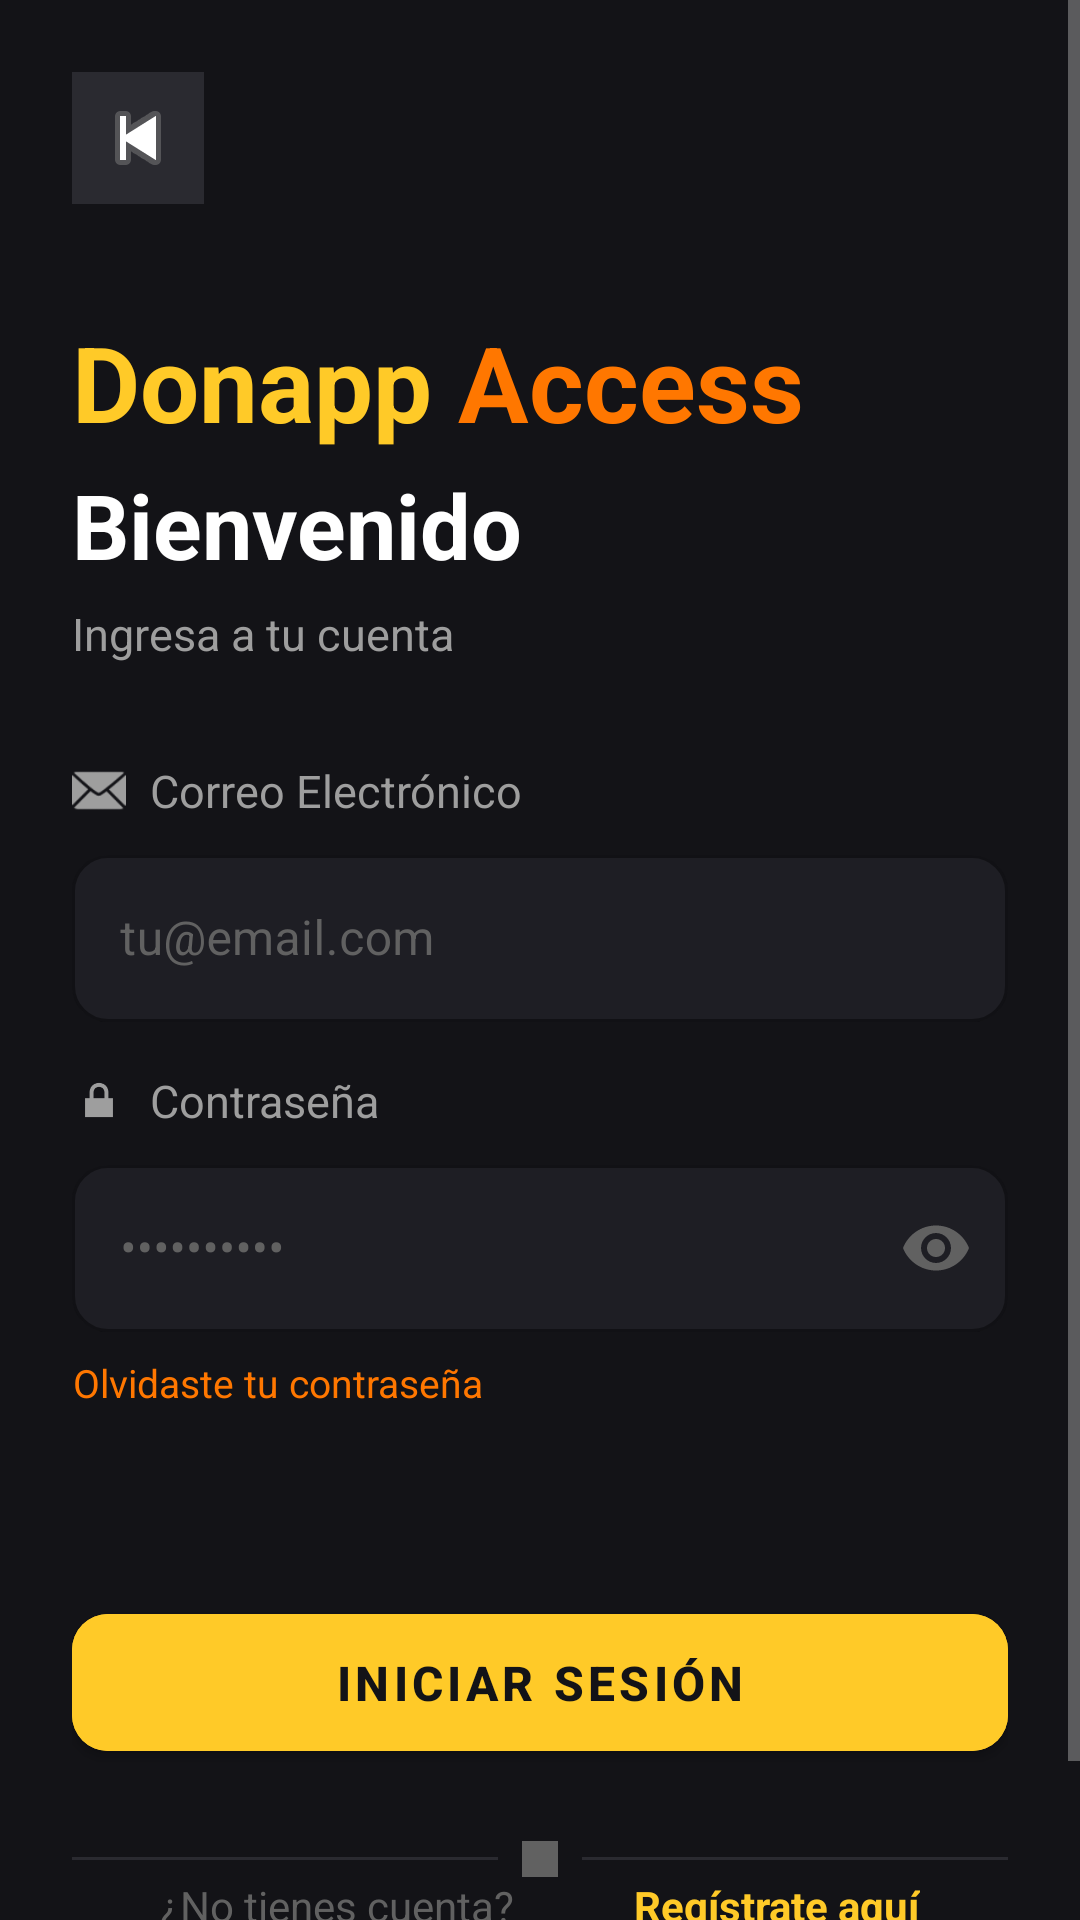

Named icons in this screenshot (1080*1920) and their centers, (x=x, y=y):
lock: (x=99, y=1100)
Volver atrás: (x=138, y=138)
